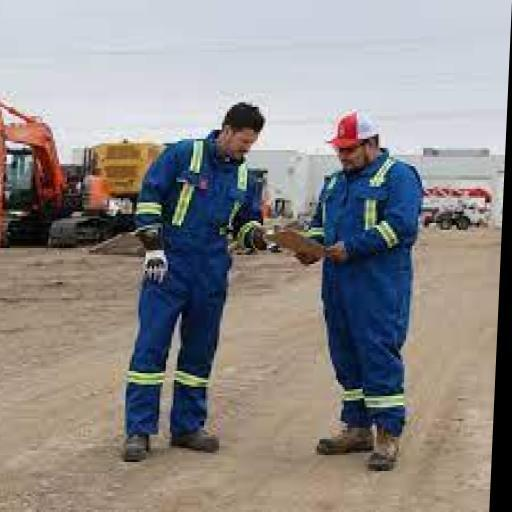safety_boots: (313, 421, 374, 463), (168, 425, 231, 462), (363, 428, 399, 478), (116, 433, 154, 469)
